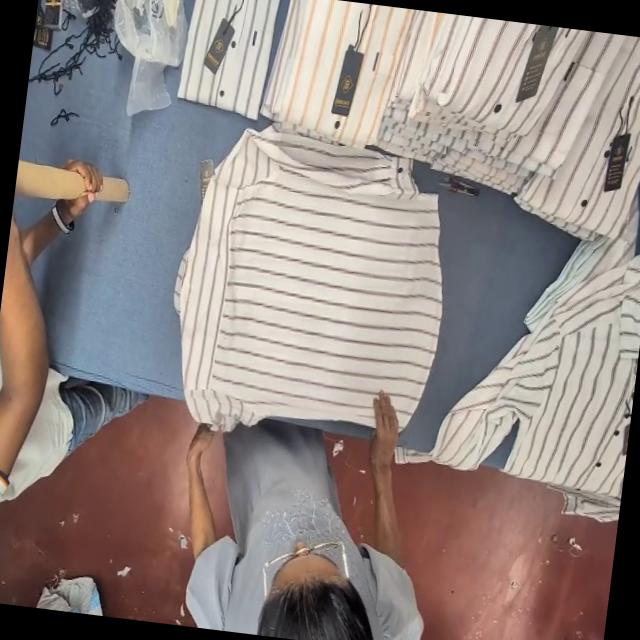new-garment: (174, 126, 441, 428)
